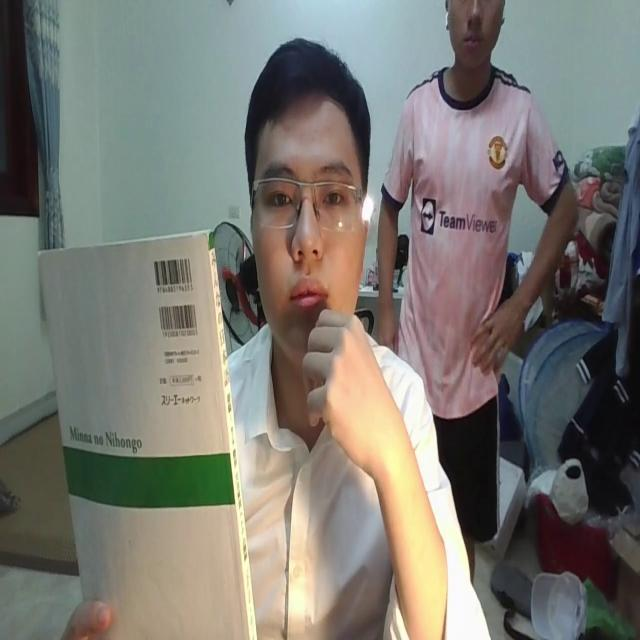book: (38, 232, 256, 640)
extra_person: (376, 0, 575, 640)
student: (226, 35, 493, 640)
